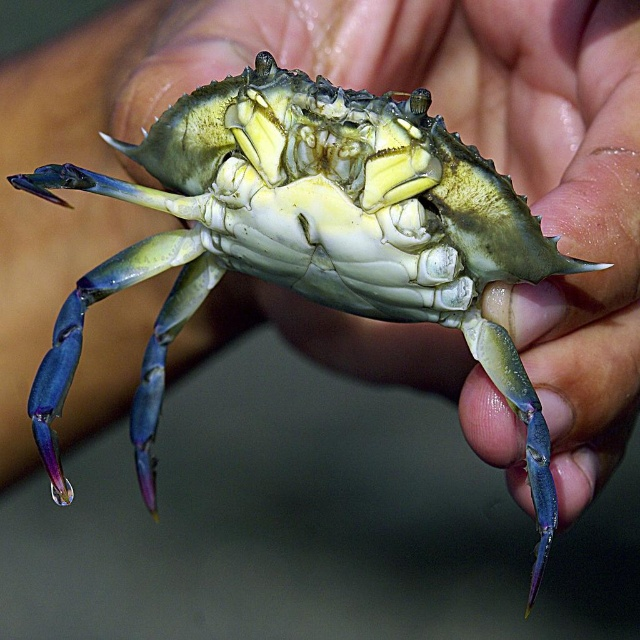Crab: (6, 50, 616, 621)
